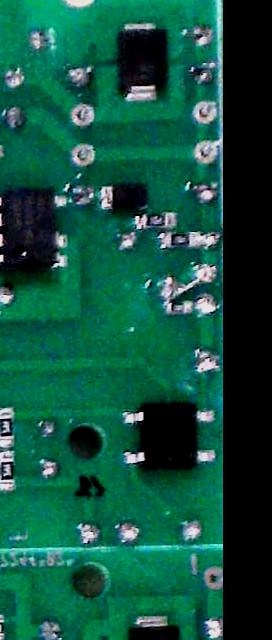chip-resistor: (141, 212, 173, 228), (164, 232, 197, 247), (0, 451, 13, 487), (0, 409, 13, 443), (167, 301, 191, 313)
diode: (119, 23, 167, 104), (100, 185, 147, 209)
ic: (121, 403, 216, 470), (0, 189, 67, 271)
